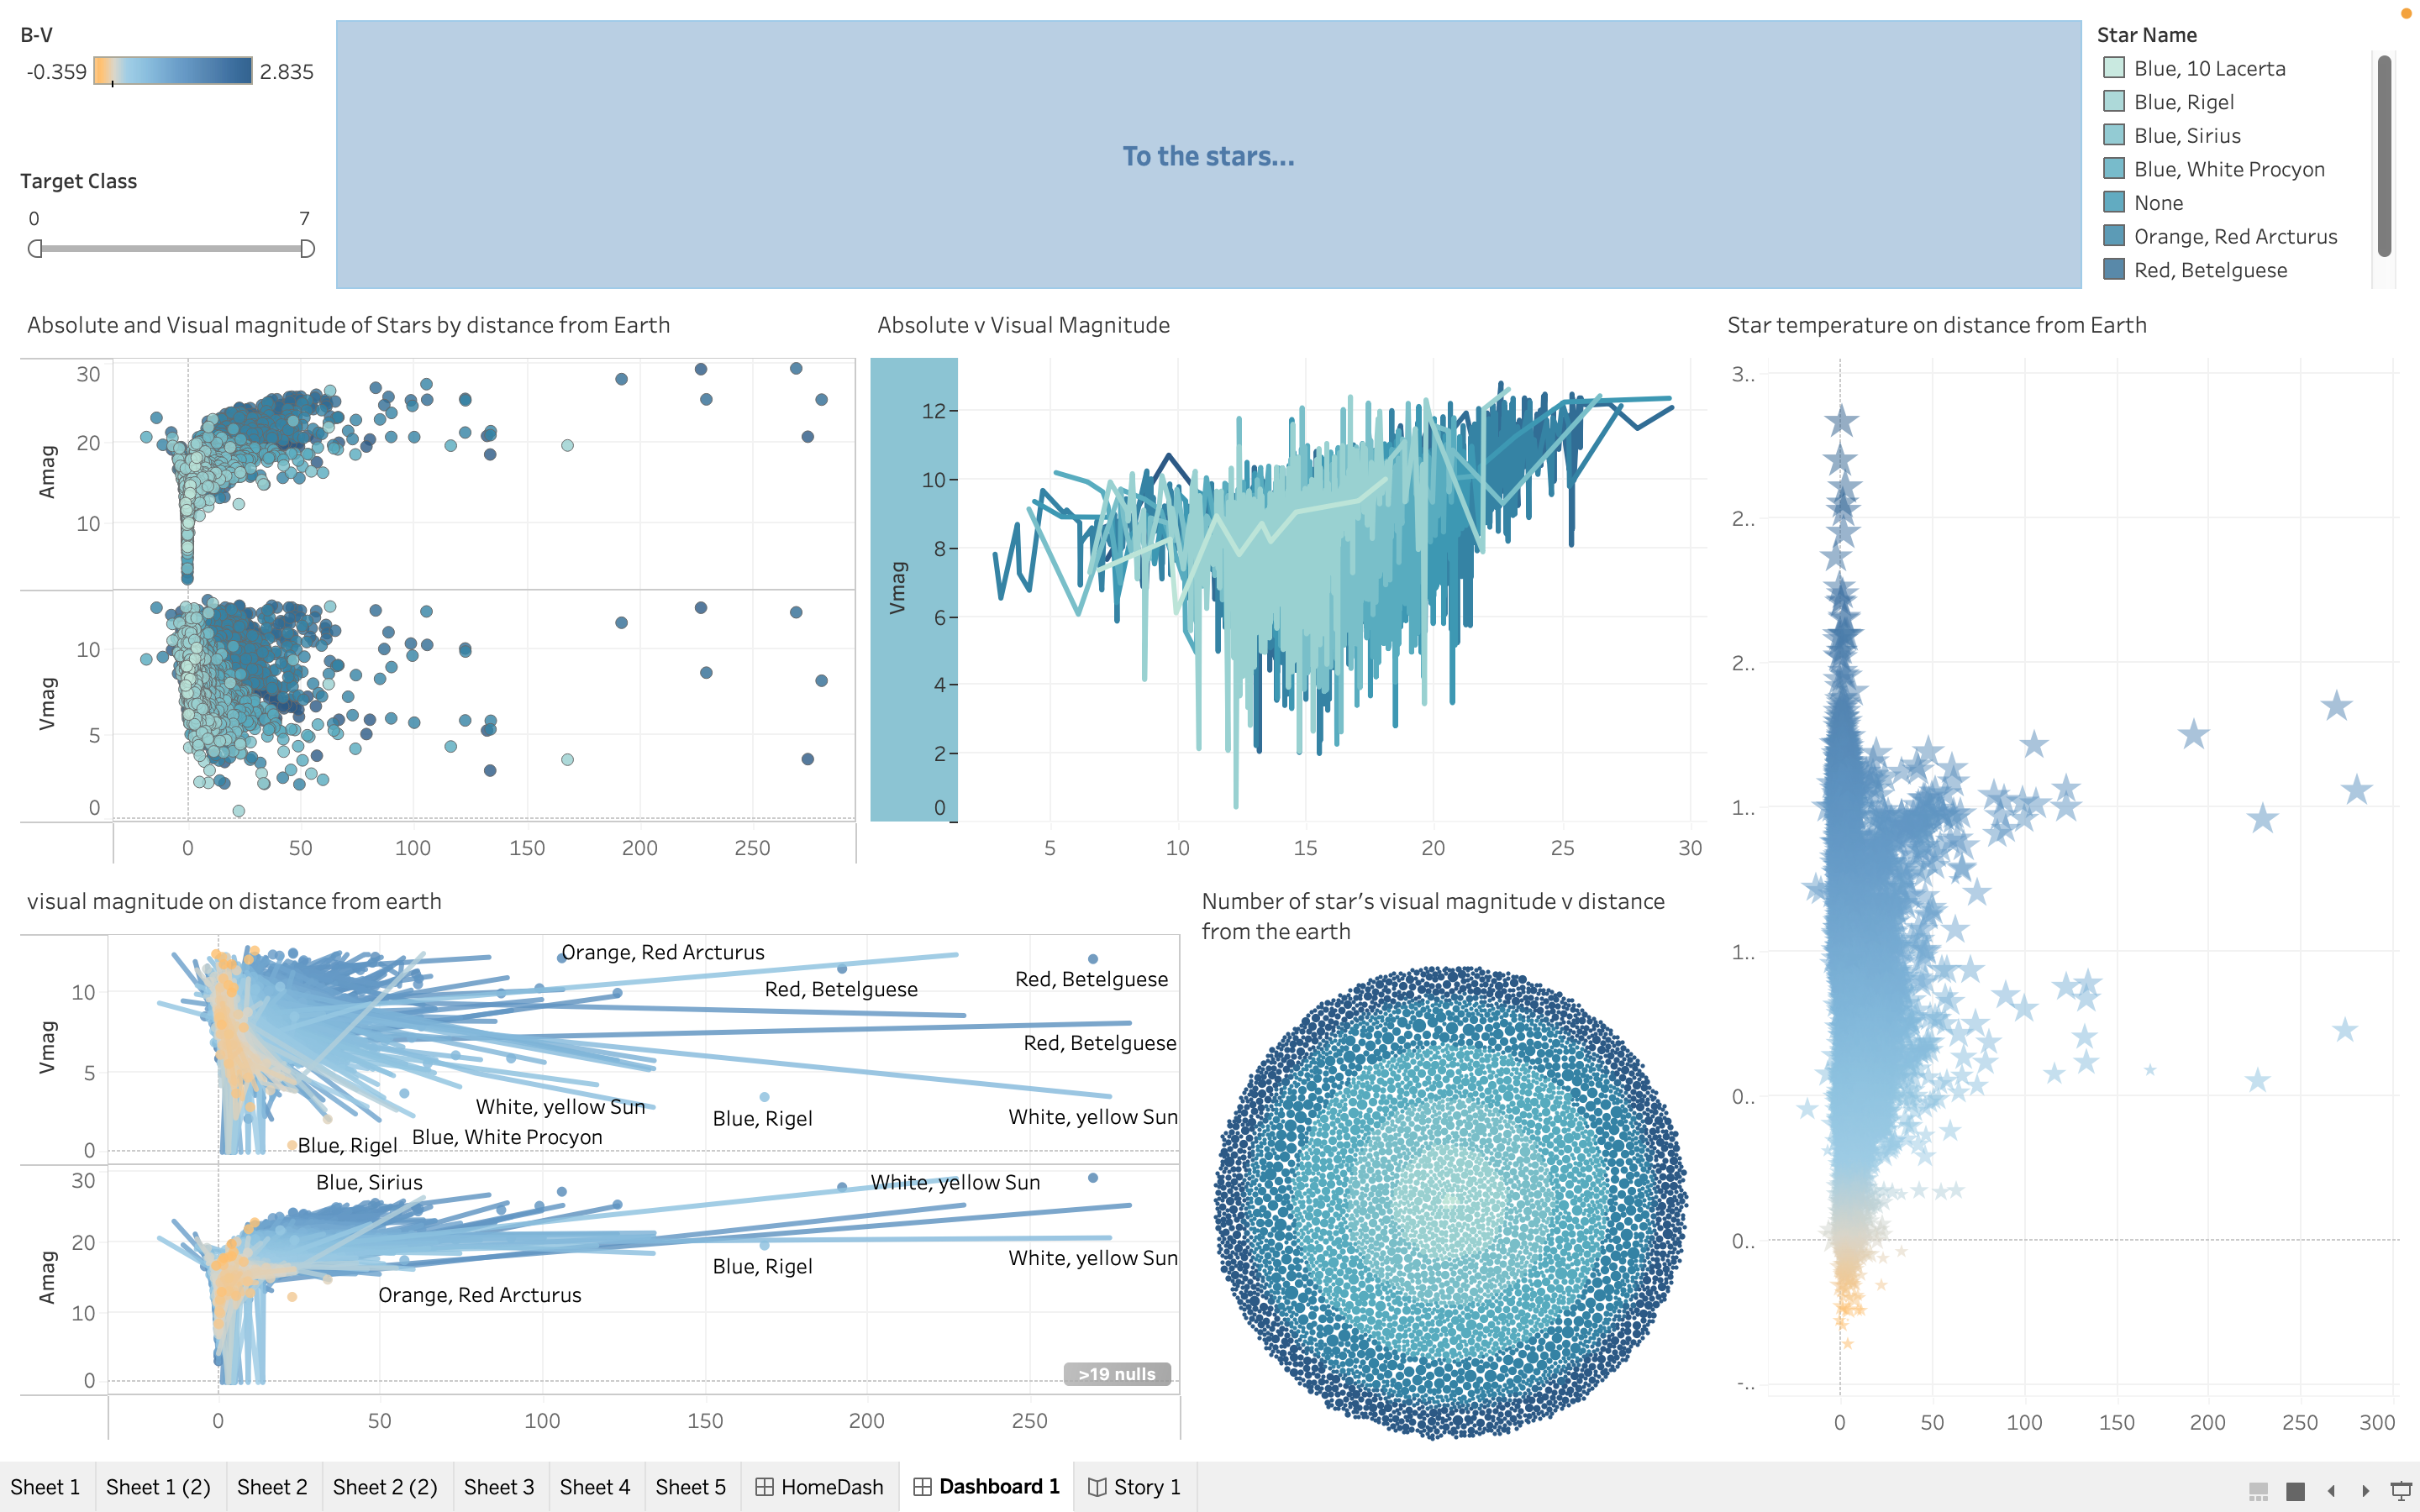

The dashboard page shown, as its layout file describes it:
{"tool":"tableau","page":{"name":"Dashboard 1","canvas":[1000,1000],"units":"permille","ordinal":0},"visuals":[{"type":"legend","title":"Mags Plx","param":"[federated.179gl0q1lsfo340zu8gg111kk66j].[none:B-V:qk]","box":[6.5,11.4,130.5,99.5]},{"type":"dashboard-object","box":[137,11.4,725.9,96]},{"type":"legend","title":"Mags Plx BV","param":"[federated.179gl0q1lsfo340zu8gg111kk66j].[none:StarName:nk]","box":[862.9,11.4,130.6,192]},{"type":"dashboard-object","box":[137,107.4,725.9,96]},{"type":"filter","title":"Mags Plx BV","param":"[federated.179gl0q1lsfo340zu8gg111kk66j].[none:TargetClass:qk]","box":[6.5,110.9,130.5,92.4]},{"type":"worksheet","title":"Mags Plx BV","mark":"Multipolygon","rows":["Amag","Vmag"],"cols":["Plx"],"box":[6.5,203.3,350.7,392.6]},{"type":"worksheet","title":"Mags","mark":"Automatic","rows":["Vmag"],"cols":["Amag"],"box":[357.2,203.3,350.8,392.6]},{"type":"worksheet","title":"BV Plx","mark":"Shape","rows":["B-V"],"cols":["Plx"],"box":[708,203.3,285.5,785.3]},{"type":"worksheet","title":"Mags Plx","mark":"Automatic","rows":["Vmag","Amag"],"cols":["Plx"],"box":[6.5,596,484.4,392.7]},{"type":"worksheet","title":"cVMag Plx","mark":"Circle","box":[490.9,596,217,392.7]}]}

Visuals, with their boxes on the dashboard's canvas, which has no fixed pixel size, in thousandths of its width and height (x1, y1, x2, y2). These are canvas units, not pixel positions in the 2420x1512 screenshot, which may show the page scaled, cropped or inside an application window:
"Mags Plx" legend: rect(6, 11, 137, 111)
dashboard-object: rect(137, 11, 863, 107)
"Mags Plx BV" legend: rect(863, 11, 994, 203)
dashboard-object: rect(137, 107, 863, 203)
"Mags Plx BV" filter: rect(6, 111, 137, 203)
"Mags Plx BV" worksheet (Multipolygon marks): rect(6, 203, 357, 596)
"Mags" worksheet: rect(357, 203, 708, 596)
"BV Plx" worksheet (Shape marks): rect(708, 203, 994, 989)
"Mags Plx" worksheet: rect(6, 596, 491, 989)
"cVMag Plx" worksheet (Circle marks): rect(491, 596, 708, 989)
